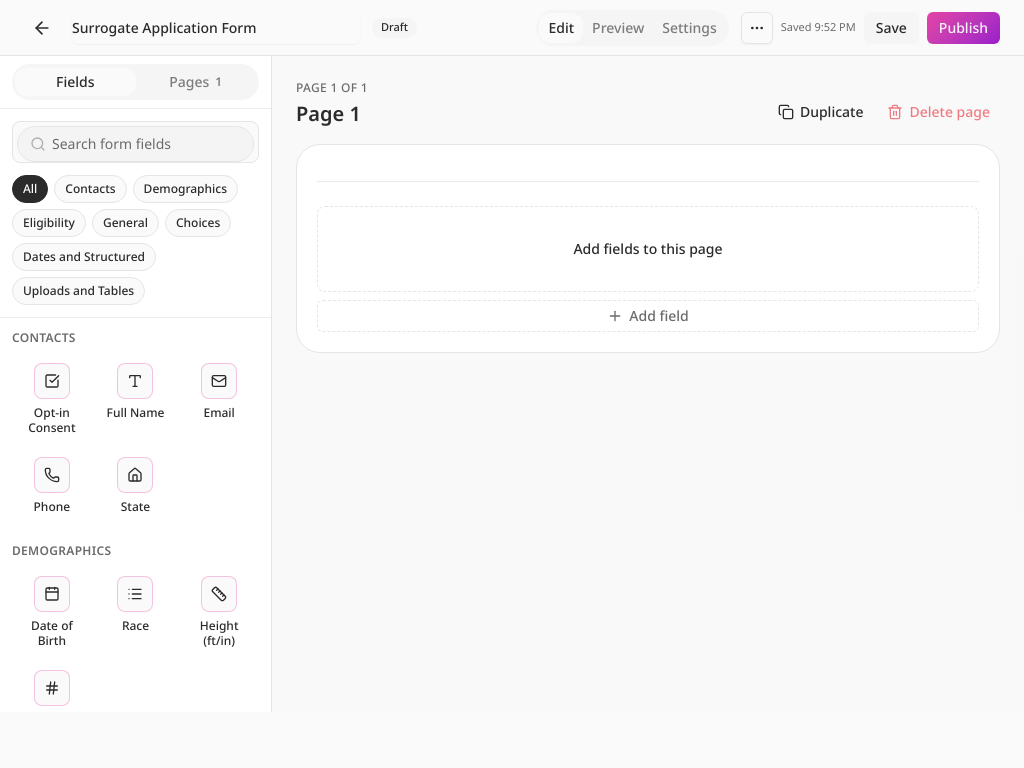
Scenario: PlatformFormTemplatePage › uses design-system tab controls for workspace navigation and a dedicated settings tab
Check: the element named "workspace sections" is shown, box 536,10 -> 729,46
Check: the tab "Edit" is shown, box 540,12 -> 583,42
Click the tab "Settings".
click(690, 28)  # box 653,12 -> 726,42
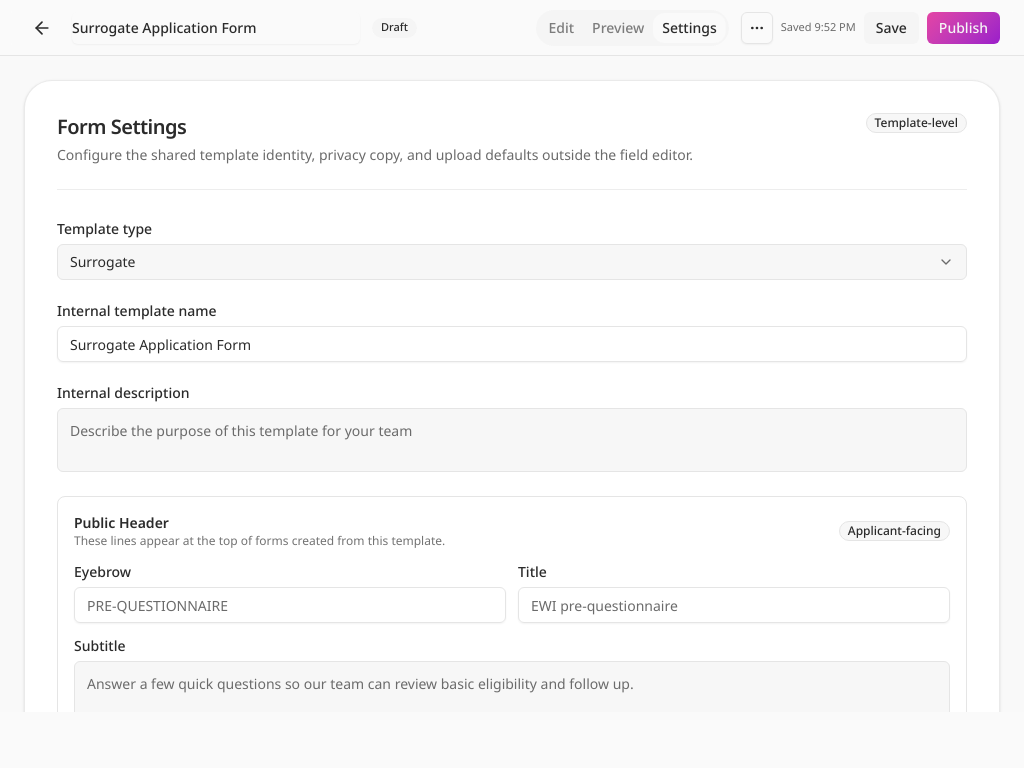
Check: the heading "Form Settings" is shown, box 57,113 -> 186,140
Check: the field labelled "Internal template name" is shown, box 57,326 -> 967,362
Check: the heading "Public Header" is shown, box 74,513 -> 169,532
